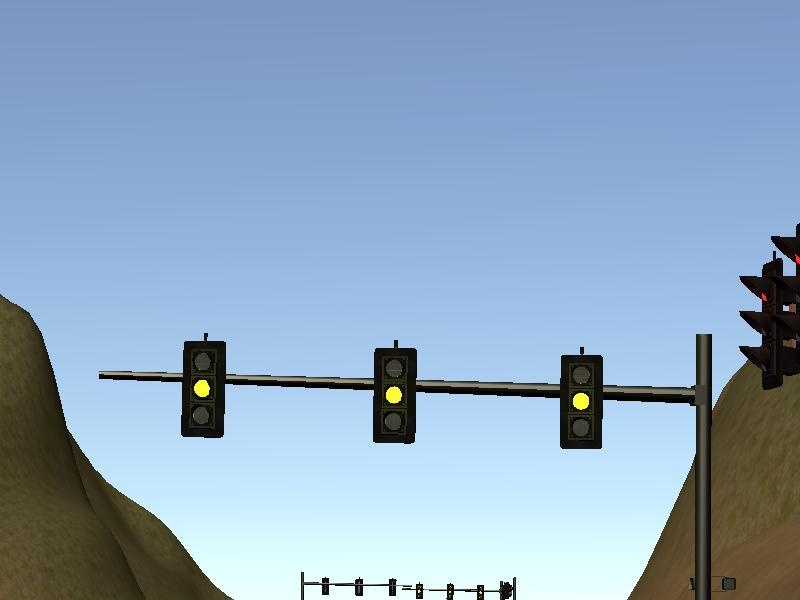YELLOW: (180, 338, 226, 440), (371, 343, 417, 445), (557, 348, 603, 450)
